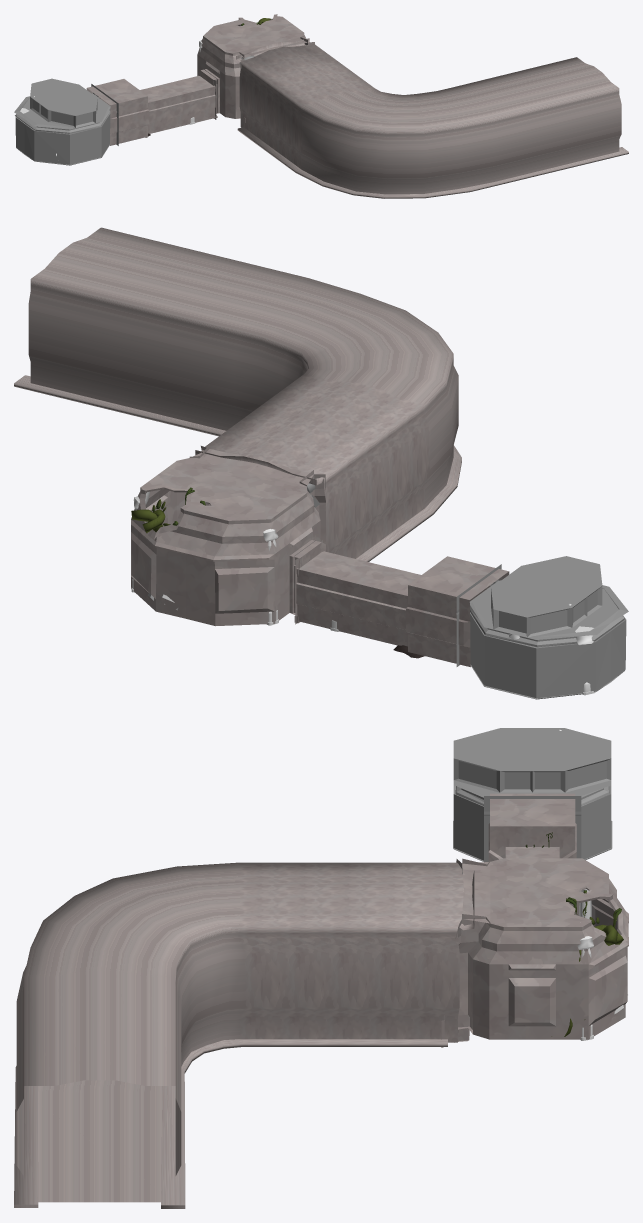
Rendered from TempleLevel.FBX.
3 views of the same model, one above another, from view 1: azimuth 30°, elevation 25°; view 2: azimuth 150°, elevation 25°; view 3: azimuth 270°, elevation 25° (orthographic). The views are drawn at different scales.
Visible parts, largest first — view 1: Hall 2, Room 1, Hall 1, Room 2; view 2: Hall 2, Room 2, Room 1, Hall 1; view 3: Hall 2, Room 2, Room 1, Hall 1.
Part boxes in pixels (<box>): Hall 2: <box>236,38,628,198</box>; Room 1: <box>14,78,118,165</box>; Hall 1: <box>86,75,215,145</box>; Room 2: <box>197,14,314,128</box>; Hall 2: <box>14,227,461,561</box>; Room 2: <box>131,445,325,626</box>; Room 1: <box>456,556,628,699</box>; Hall 1: <box>296,551,509,667</box>; Hall 2: <box>14,862,474,1208</box>; Room 2: <box>441,858,628,1047</box>; Room 1: <box>453,728,612,861</box>; Hall 1: <box>488,793,576,861</box>.
Bounding box in the file's own units: 5911 × 906 × 3834.
